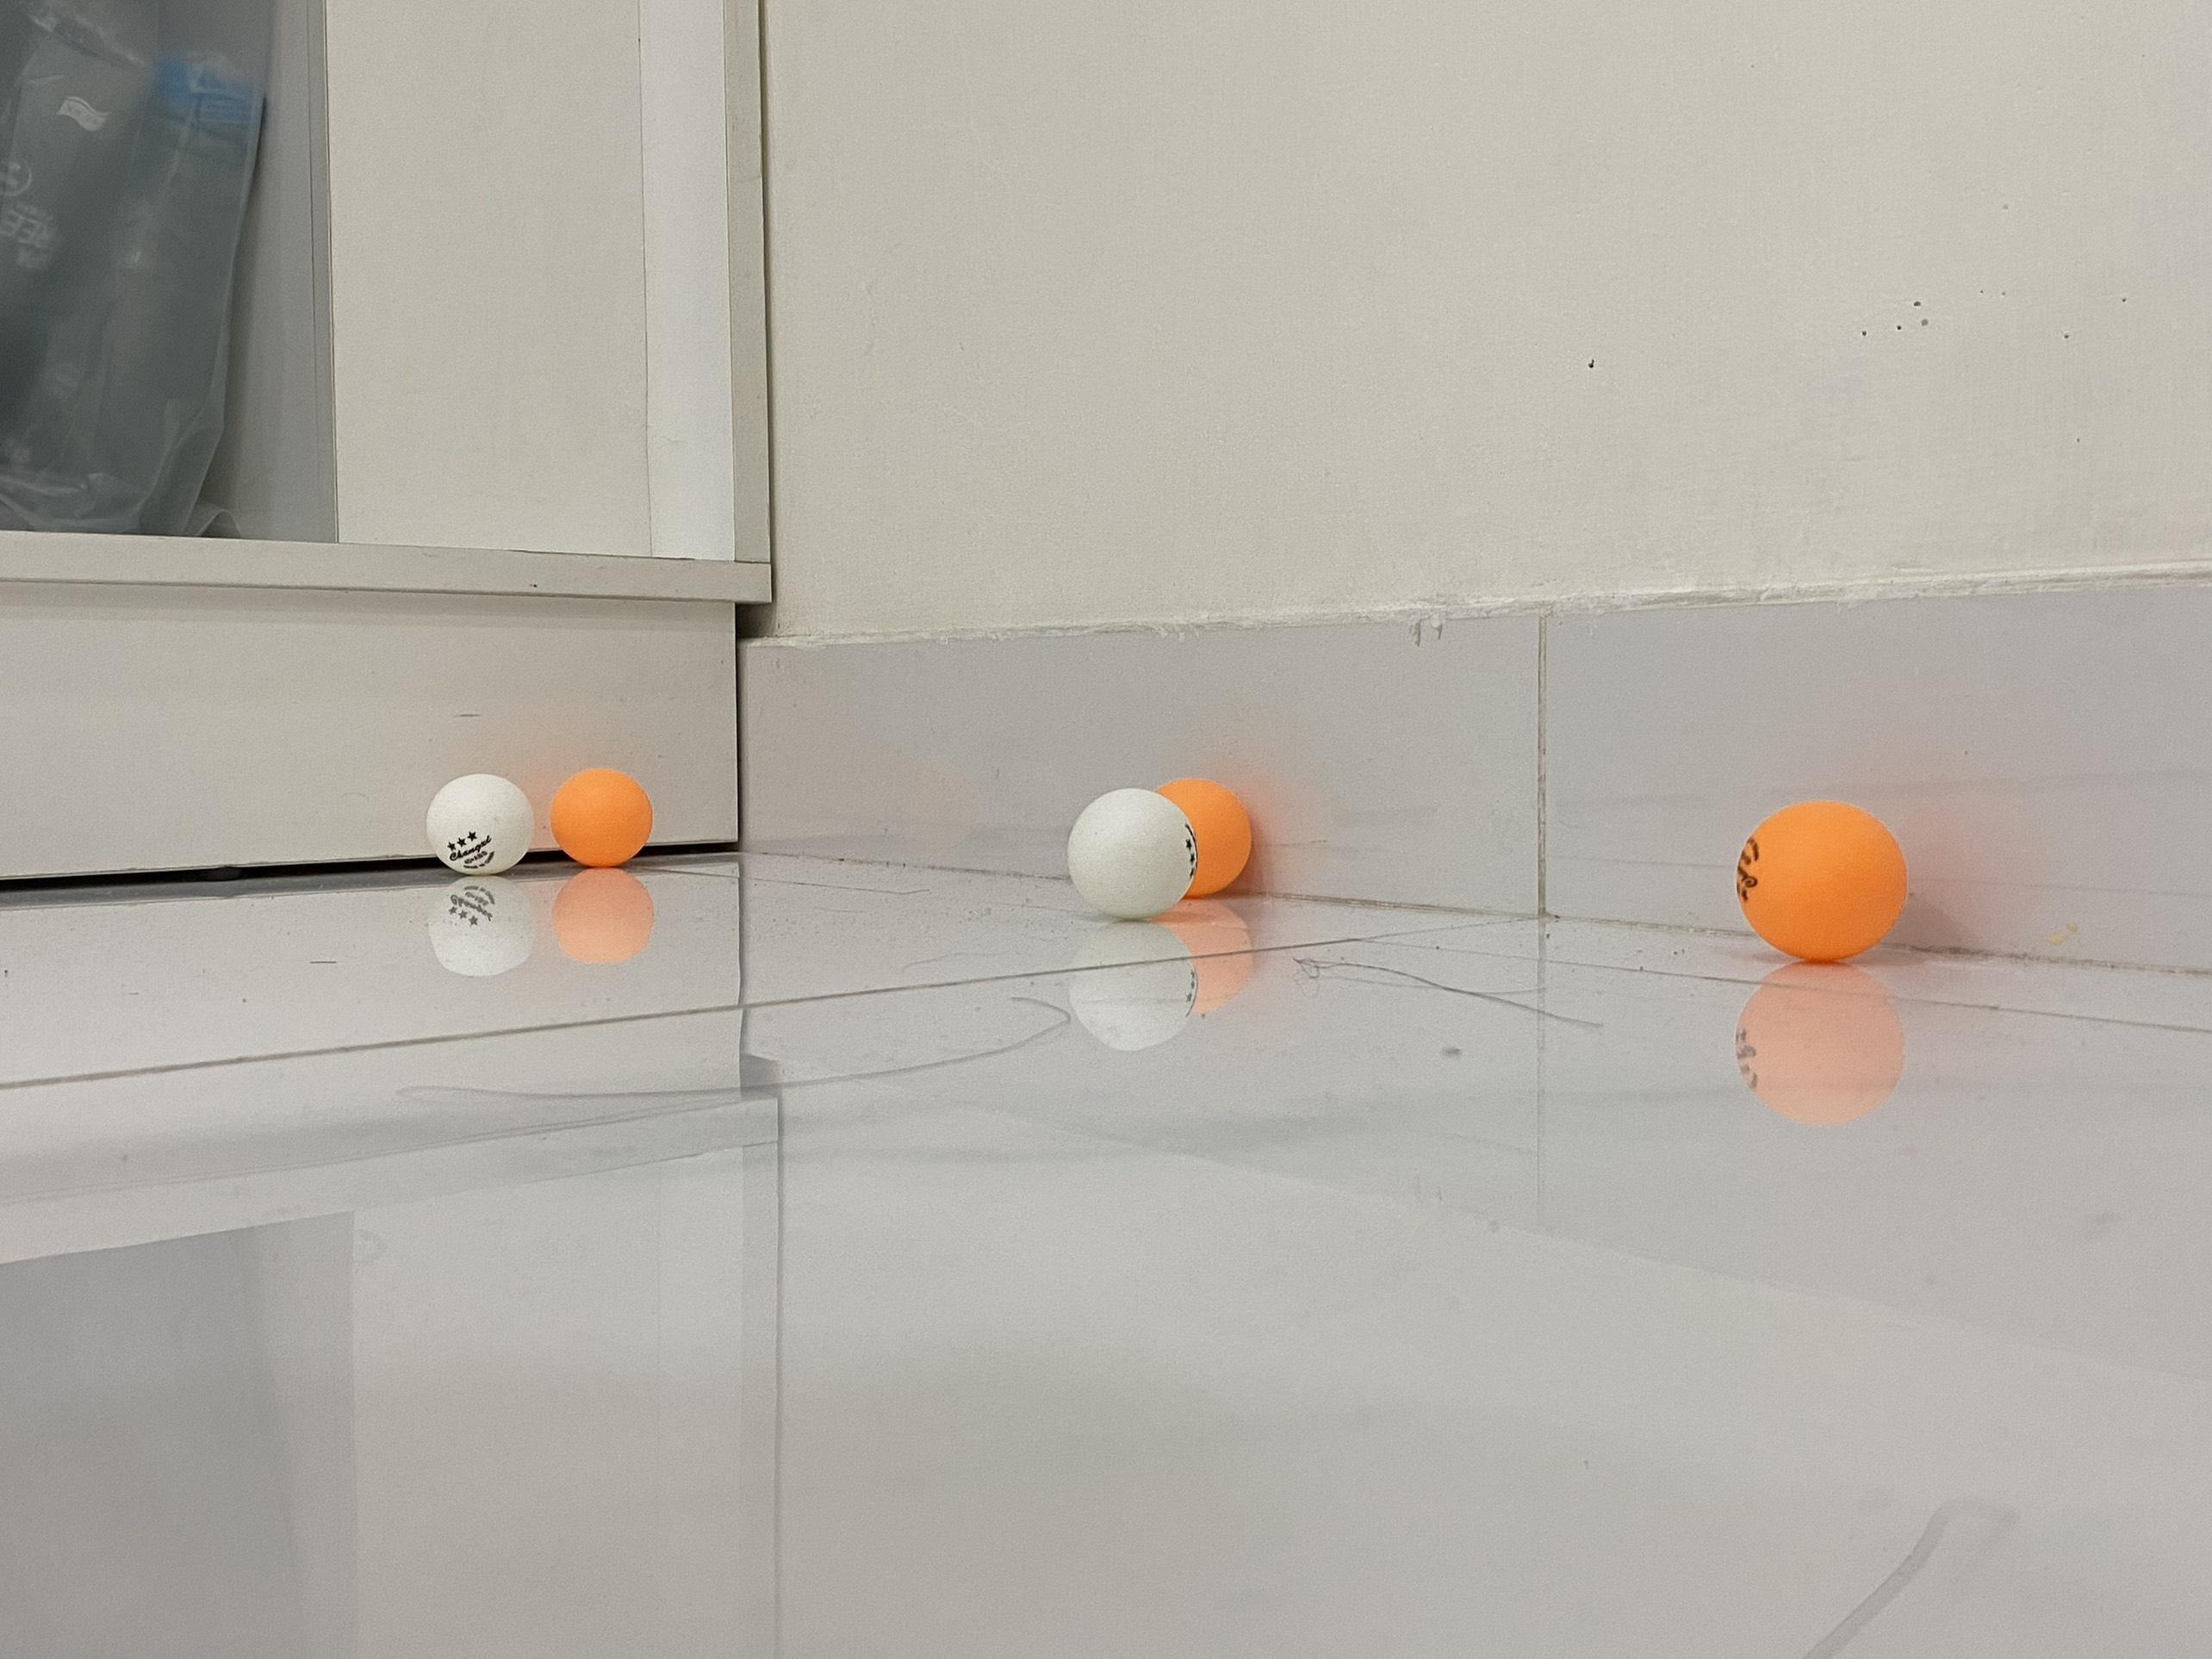oball: (1737, 798, 1905, 960), (1132, 775, 1254, 896), (552, 767, 653, 868)
